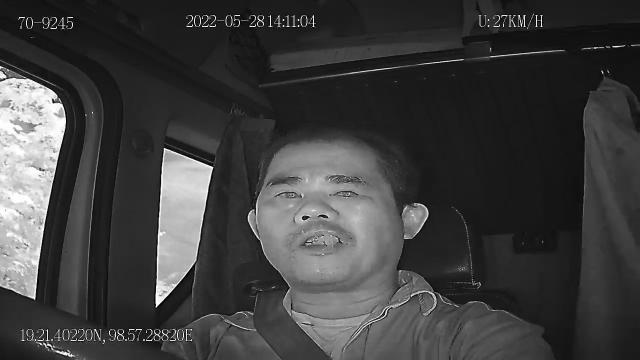SafeDriving: (324, 179, 368, 205), (266, 180, 307, 207)
Seatbelt: (251, 286, 331, 360)
